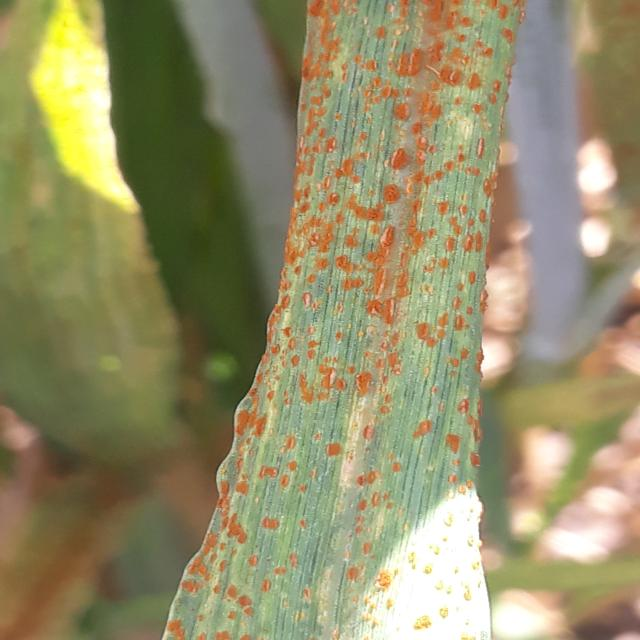orang_rust: (156, 0, 523, 640)
